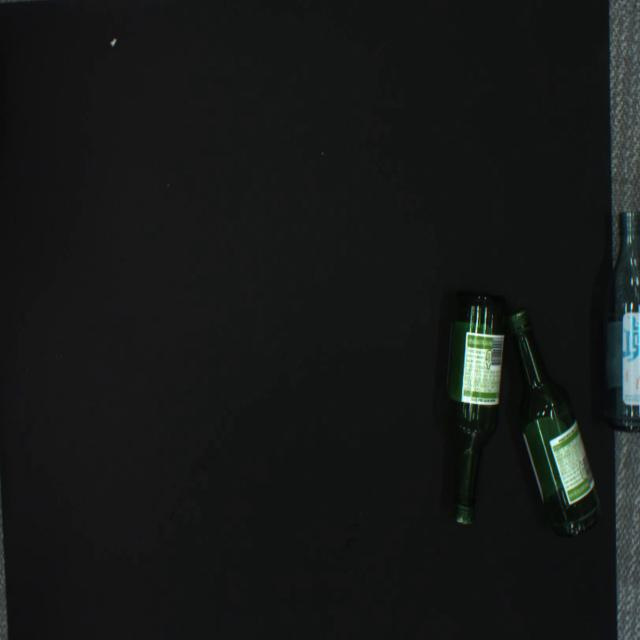soju-bottle: (505, 309, 601, 538), (445, 293, 506, 525), (603, 210, 640, 432)
